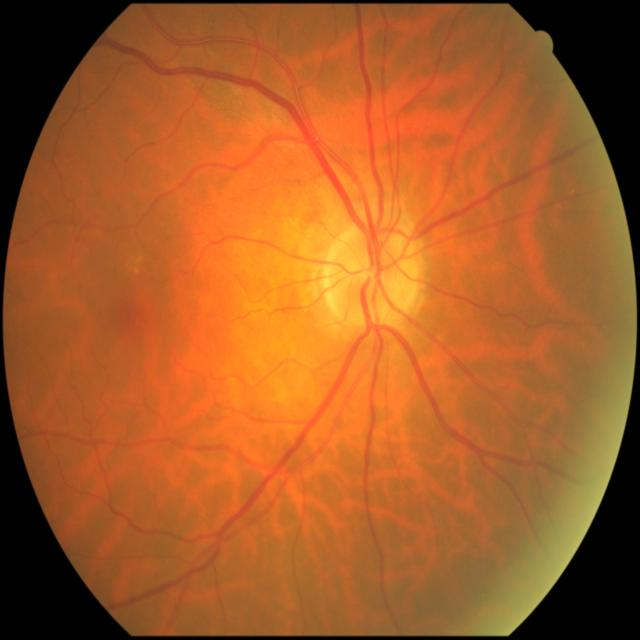OD: (324, 226, 419, 330)
